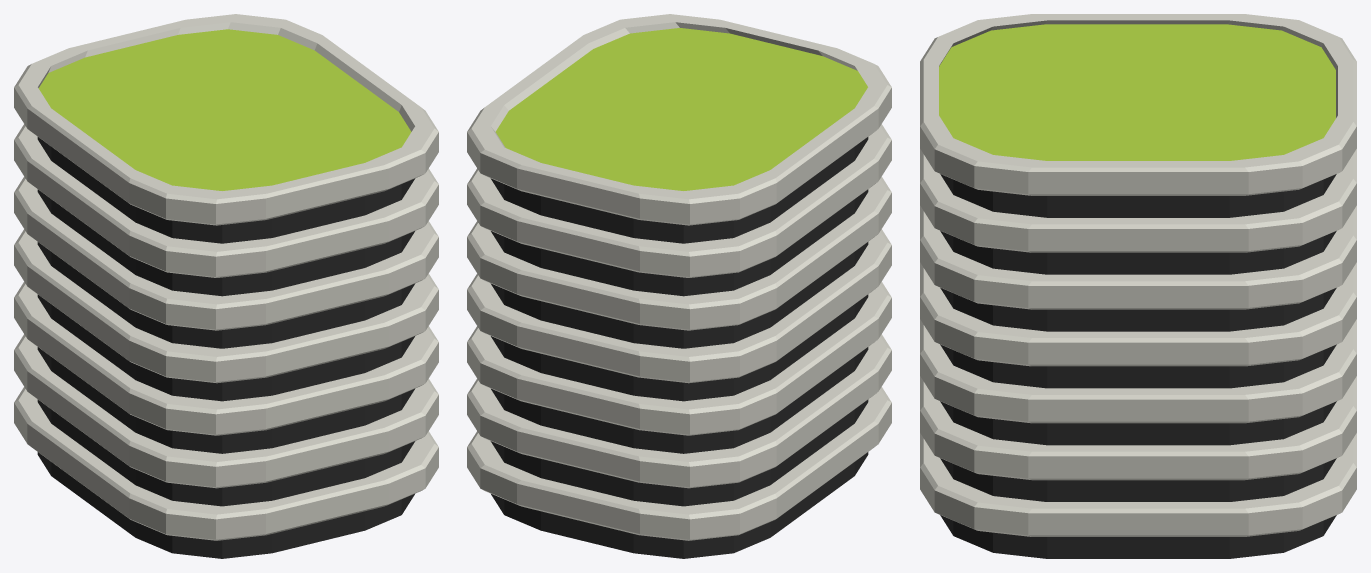
The model's file is Building8.fbx.
The picture shows the model from 3 angles, left to right: view 1: azimuth 30°, elevation 25°; view 2: azimuth 150°, elevation 25°; view 3: azimuth 270°, elevation 25°; orthographic projection. The views are drawn at different scales.
Visible parts, largest first — view 1: building_8; view 2: building_8; view 3: building_8.
Boxes of the visible parts, box(x1,y1,x2,y2) form: building_8: box(14, 14, 438, 558); building_8: box(467, 14, 891, 558); building_8: box(920, 14, 1356, 558).
Size of the model in its own units: 5565 by 6600 by 6565.
